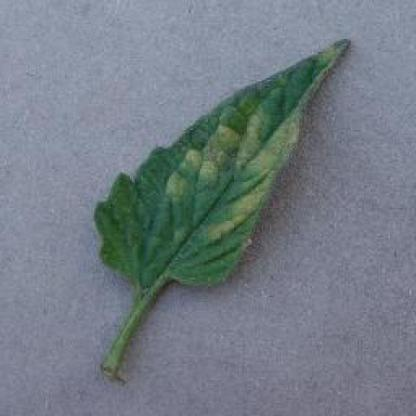Tomato_Leaf_Mold: (98, 36, 351, 289)
